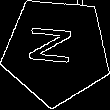N_E: (30, 29, 83, 73)
